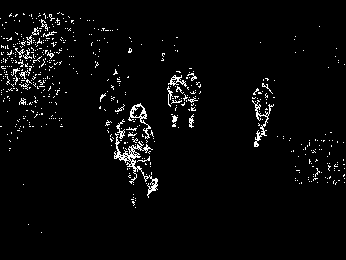person: (114, 100, 161, 206), (252, 77, 274, 149), (164, 67, 187, 132), (183, 66, 203, 132)
